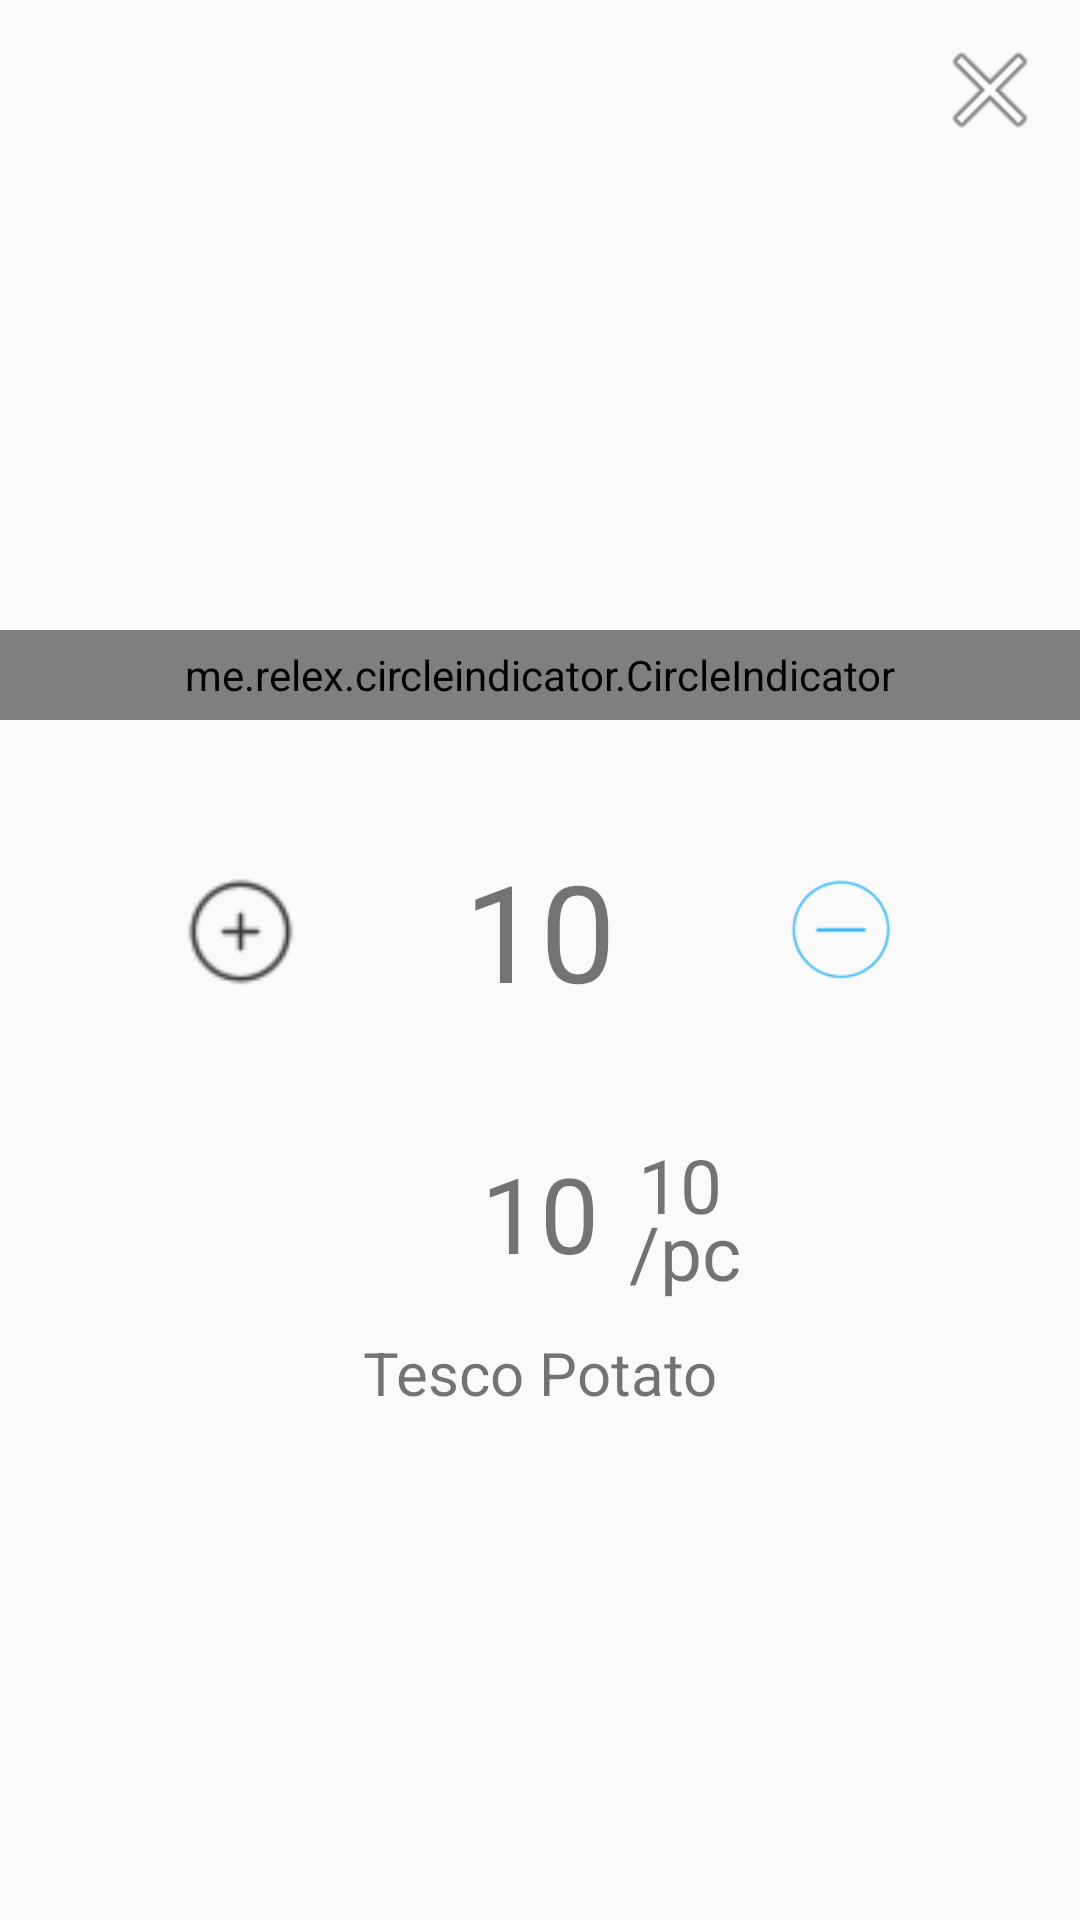

Icon click points for this 1080 x 1920 phone screenshot, format (x=x, y=y):
close clear cancel: (x=990, y=90)
minus circle: (x=841, y=929)
plus circle: (x=240, y=931)
